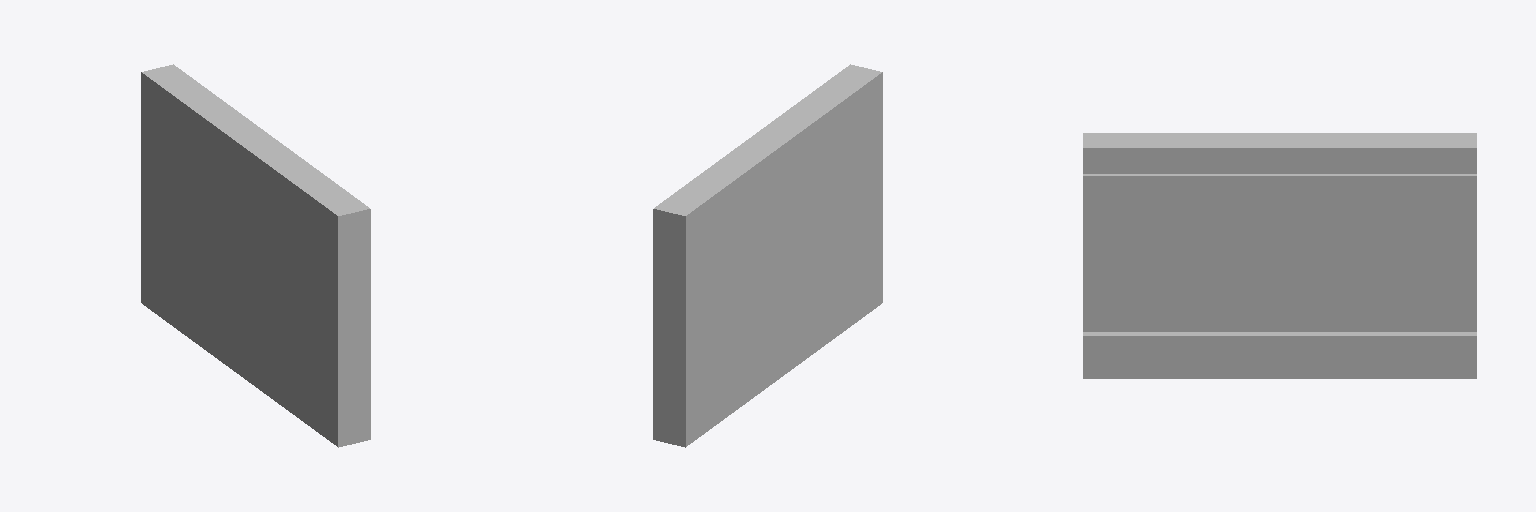
Rendered from pared_madera.obj.
3 views of the same model, side by side, from view 1: azimuth 30°, elevation 25°; view 2: azimuth 150°, elevation 25°; view 3: azimuth 270°, elevation 25° (orthographic).
Parts seen in each view (by area): view 1: pCube1; view 2: pCube1; view 3: pCube1.
Part boxes in pixels (x1,y1,x2,y2): pCube1: (141, 64, 370, 447); pCube1: (653, 64, 882, 447); pCube1: (1083, 133, 1476, 378).
Size of the model in its own units: 0.3457 by 2.38 by 3.67.